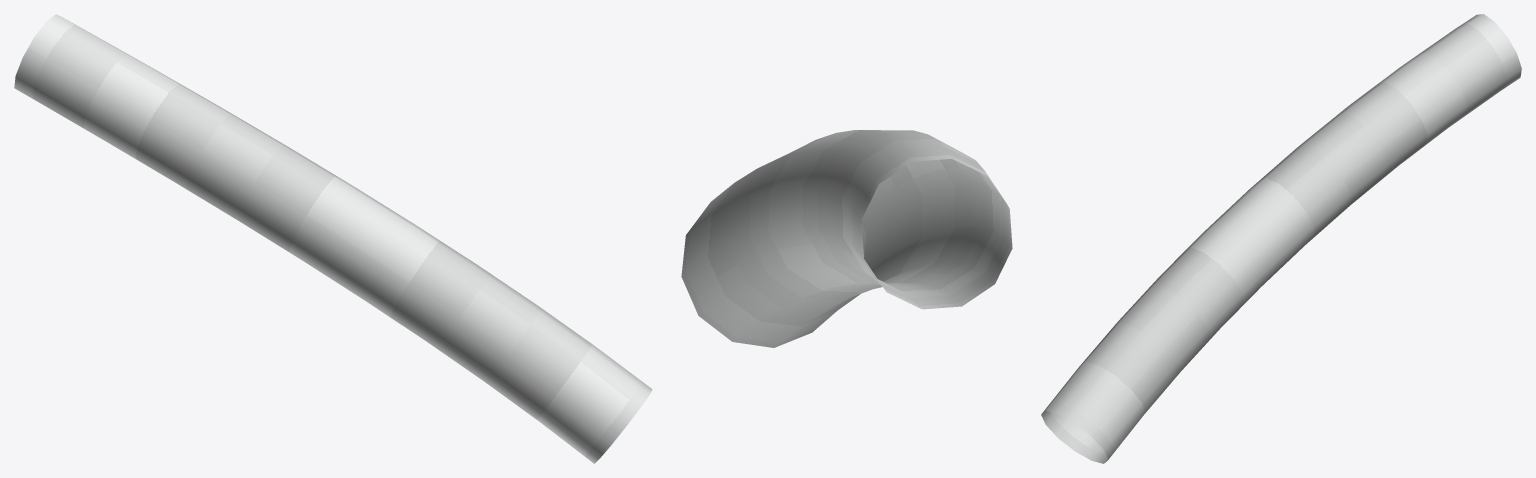
Rendered from luminairearm_vannuystriple_c4.obj.
3 views of the same model, side by side, from view 1: azimuth 30°, elevation 25°; view 2: azimuth 150°, elevation 25°; view 3: azimuth 270°, elevation 25° (orthographic). The views are drawn at different scales.
Visible parts, largest first — view 1: luminairearm_vannuystriple_c4; view 2: luminairearm_vannuystriple_c4; view 3: luminairearm_vannuystriple_c4.
Part boxes in pixels (x1,y1,x2,y2): luminairearm_vannuystriple_c4: (14, 14, 652, 463); luminairearm_vannuystriple_c4: (681, 130, 1012, 347); luminairearm_vannuystriple_c4: (1041, 14, 1521, 463).
Size of the model in its own units: 0.9744 by 0.8011 by 1.13.
